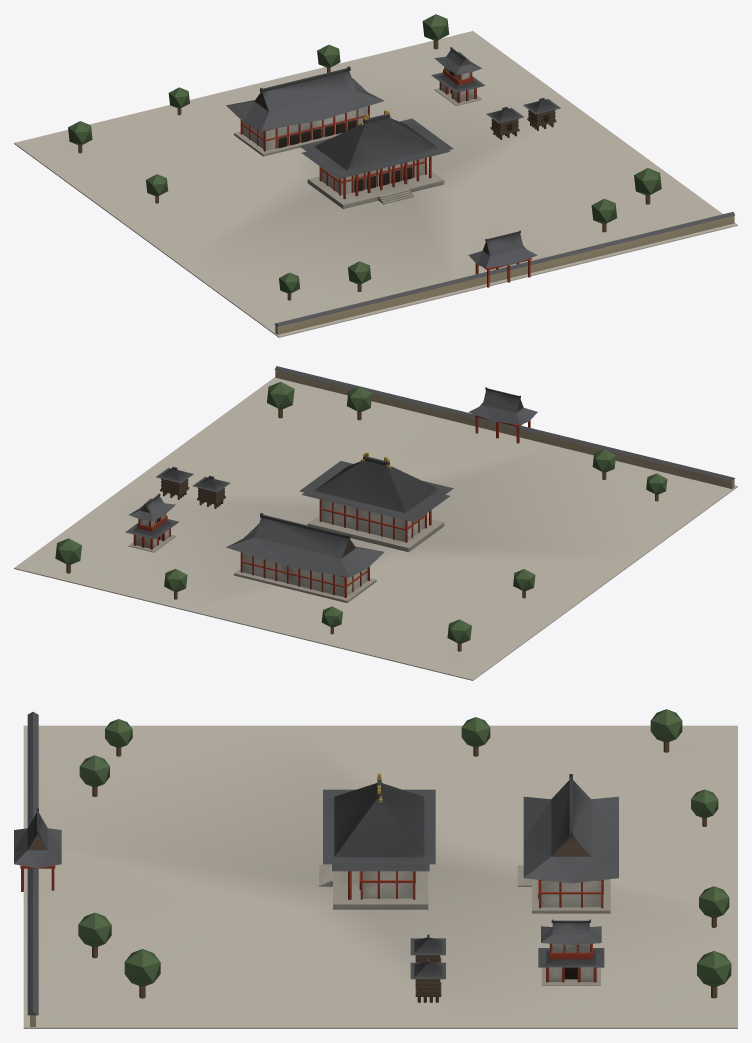
Rendered from toshodaiji.glb.
The picture shows the model from 3 angles, top to bottom: view 1: azimuth 30°, elevation 25°; view 2: azimuth 150°, elevation 25°; view 3: azimuth 270°, elevation 25°; orthographic projection. The views are drawn at different scales.
Visible parts, largest first — view 1: p0_grounds, p2_roofs, p1_halls; view 2: p0_grounds, p2_roofs, p1_halls, kondo_roof; view 3: p0_grounds, p2_roofs, p1_halls, kondo_roof.
Part boxes in pixels (x1,y1,x2,y2): p0_grounds: [14, 31, 737, 337]; p2_roofs: [68, 14, 661, 300]; p1_halls: [234, 67, 556, 287]; p0_grounds: [14, 366, 737, 680]; p2_roofs: [55, 381, 667, 651]; p1_halls: [128, 387, 537, 602]; kondo_roof: [301, 458, 449, 522]; p0_grounds: [23, 712, 737, 1028]; p2_roofs: [78, 709, 731, 998]; p1_halls: [14, 808, 610, 1002]; kondo_roof: [332, 780, 429, 871].
Size of the model in its own units: 150 by 22.59 by 152.
